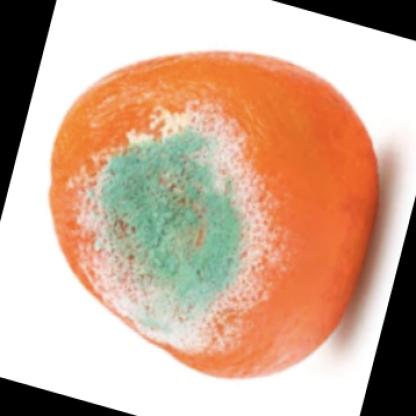rotten: (52, 48, 381, 379)
